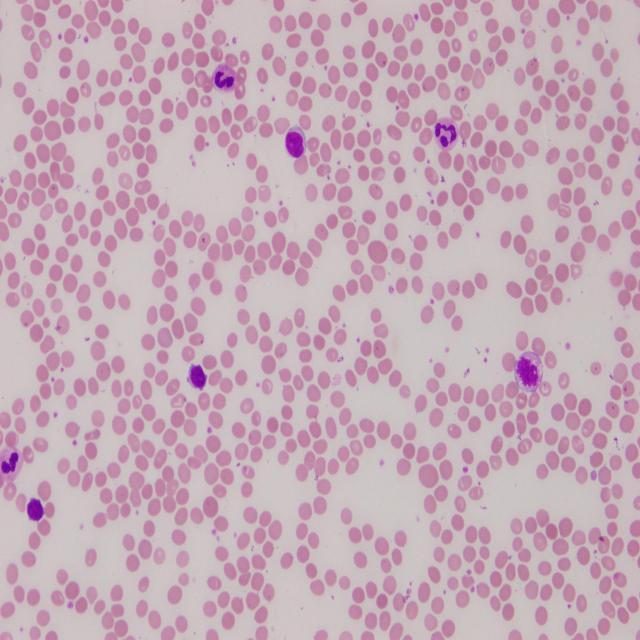cell: (434, 117, 458, 150), (0, 448, 22, 484)
